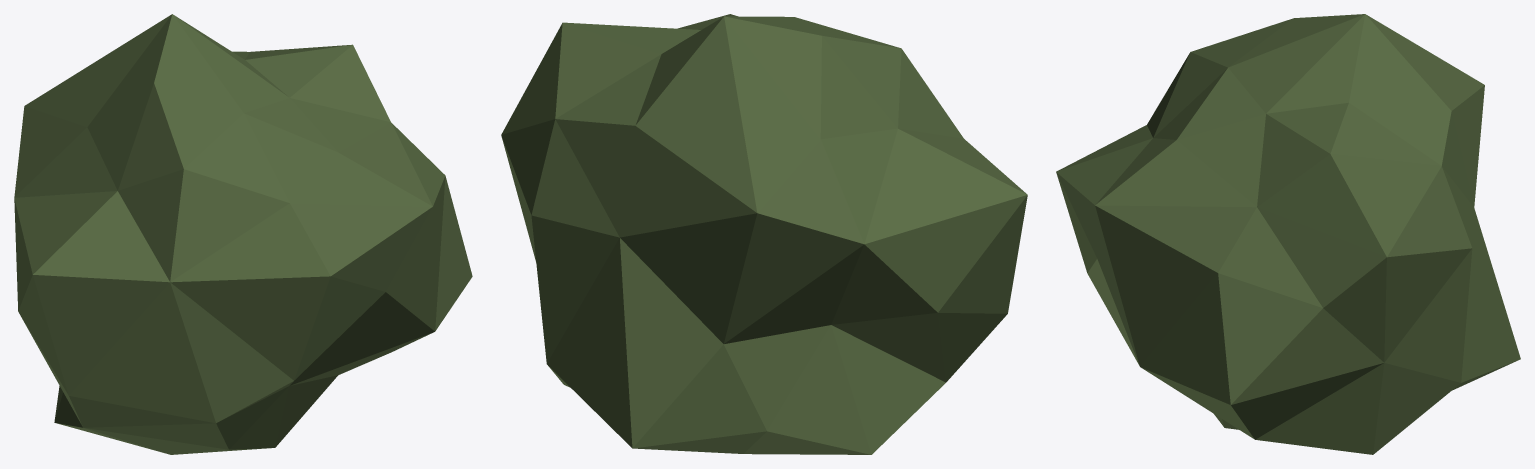
File: SM_Envr_Nature_Plant_Bush_03.fbx
3 renders of one model, left to right at view 1: azimuth 30°, elevation 25°; view 2: azimuth 150°, elevation 25°; view 3: azimuth 270°, elevation 25°, orthographic. The views are drawn at different scales.
Parts seen in each view (by area): view 1: SM_Envr_Nature_Plant_Bush_03; view 2: SM_Envr_Nature_Plant_Bush_03; view 3: SM_Envr_Nature_Plant_Bush_03.
Boxes of the visible parts, x1,y1,x2,y2 form: SM_Envr_Nature_Plant_Bush_03: [14, 14, 472, 454]; SM_Envr_Nature_Plant_Bush_03: [501, 14, 1027, 454]; SM_Envr_Nature_Plant_Bush_03: [1056, 14, 1520, 454].
Size of the model in its own units: 176 by 153 by 158.
